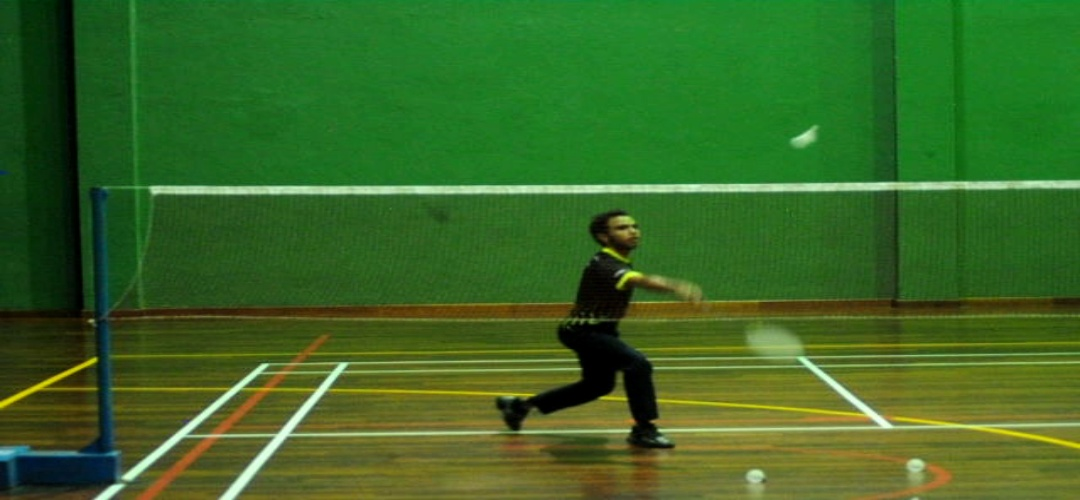c1: (273, 426, 297, 447)
c2: (872, 417, 908, 438)
player: (497, 209, 687, 452)
shuttle: (786, 124, 825, 151)
